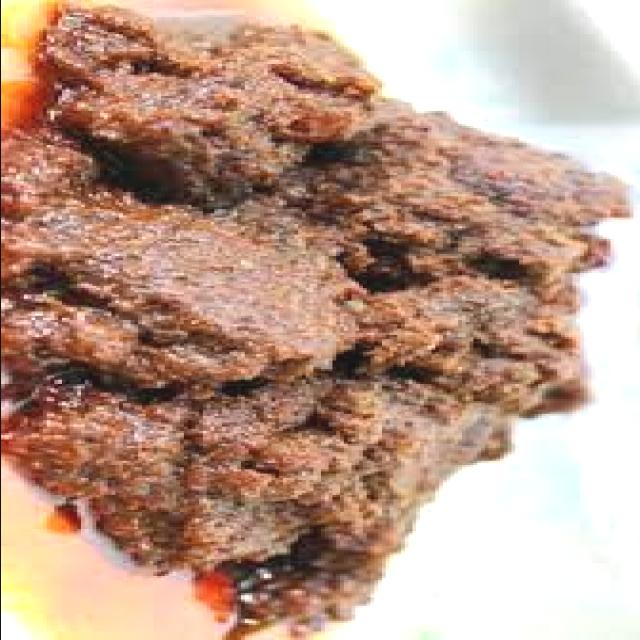rendang: (0, 2, 632, 634)
